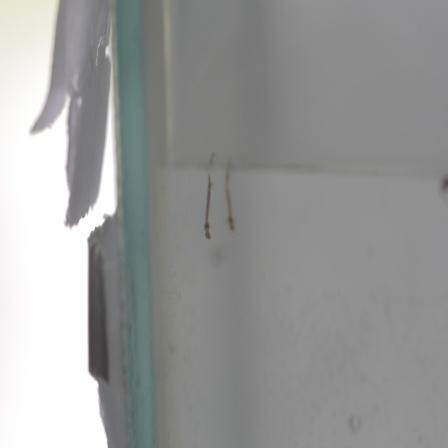Jentik-Nyamuk: (219, 167, 241, 234), (197, 172, 217, 242)
